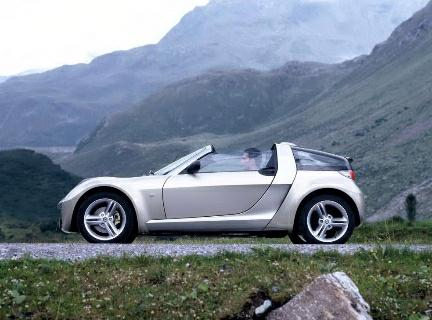smart-roadster: (74, 144, 354, 237)
